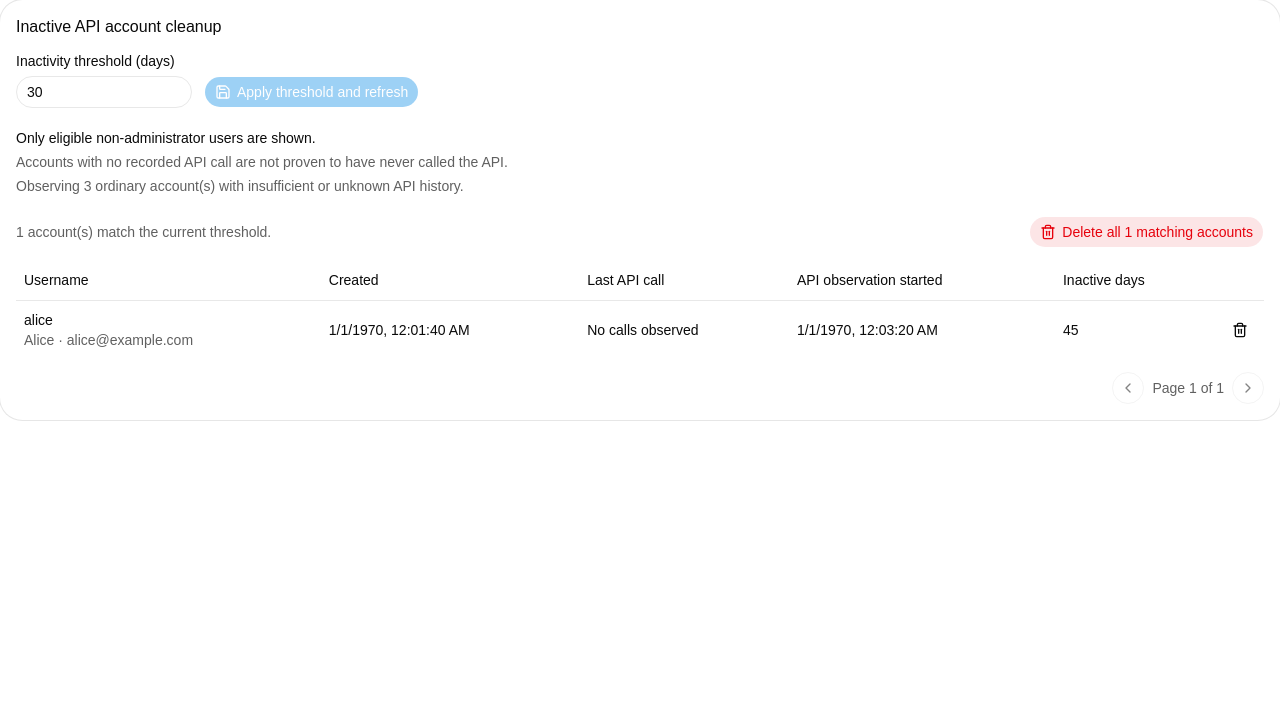
Test case: inactive API account cleanup › shows a deletion failure inside the confirmation and refreshes candidates
Click the button named "Delete account alice" at (1240,330), box [1224, 314, 1256, 346]
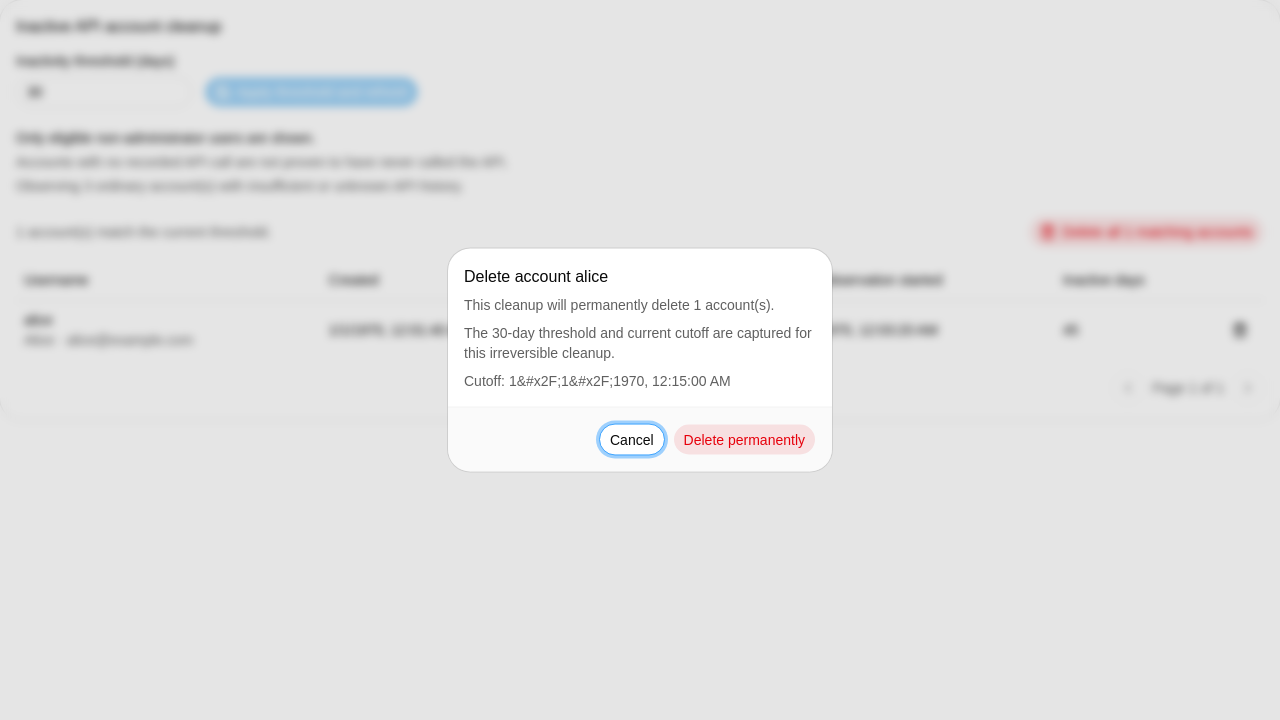
Click the button "Delete permanently" at (744,440), box [673, 424, 816, 456]
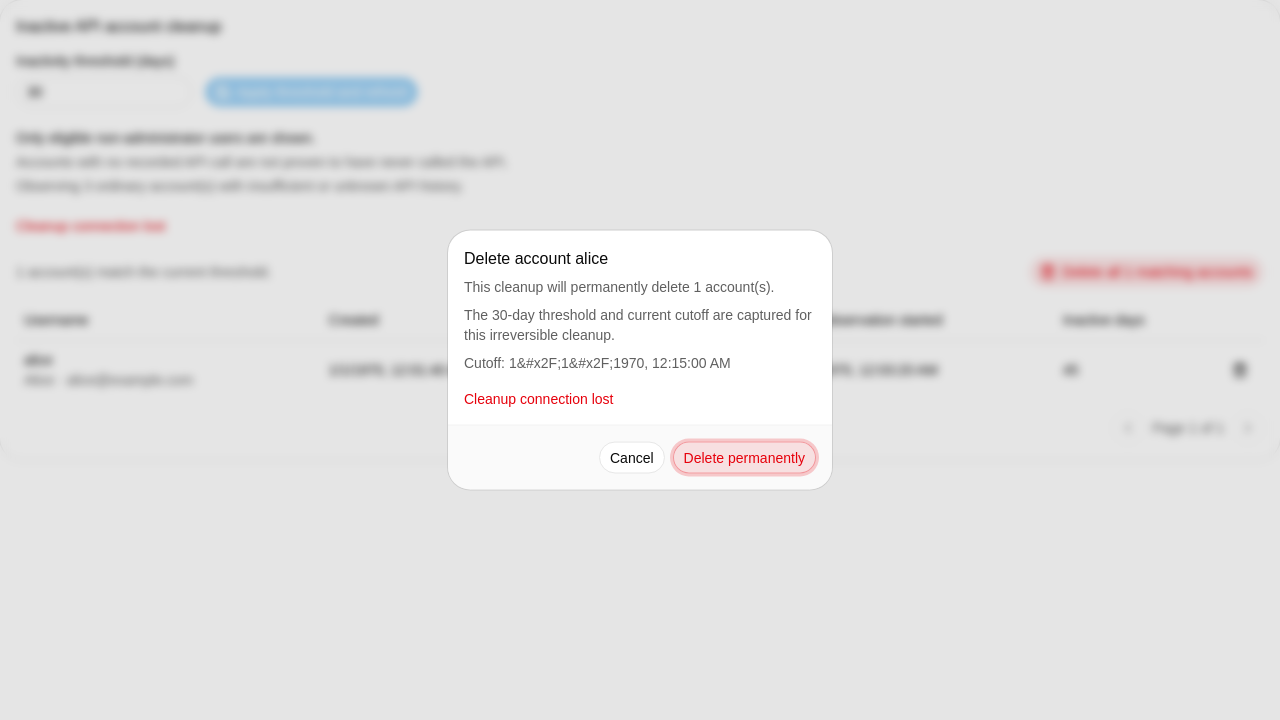
Now the text "Cleanup connection lost" below "Inactivity threshold (days)" is shown, box [16, 218, 165, 234]
